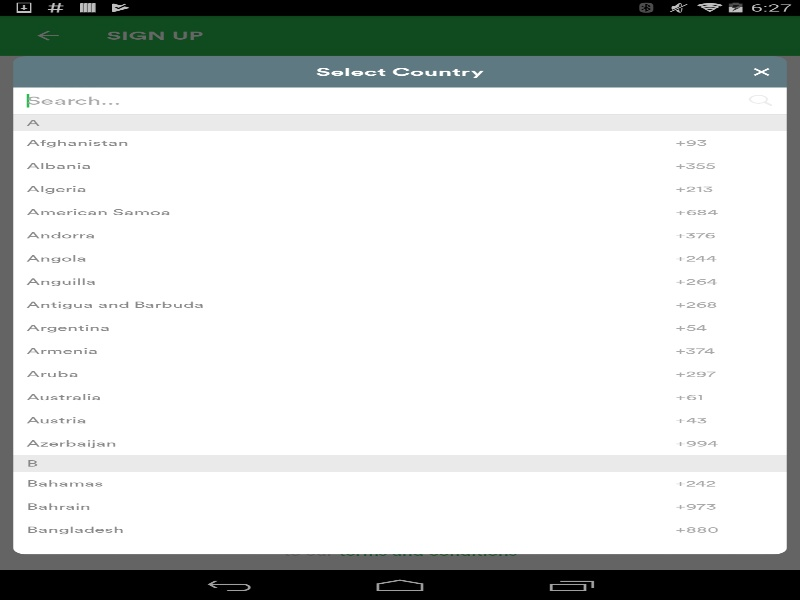Input: (13, 87, 786, 113)
